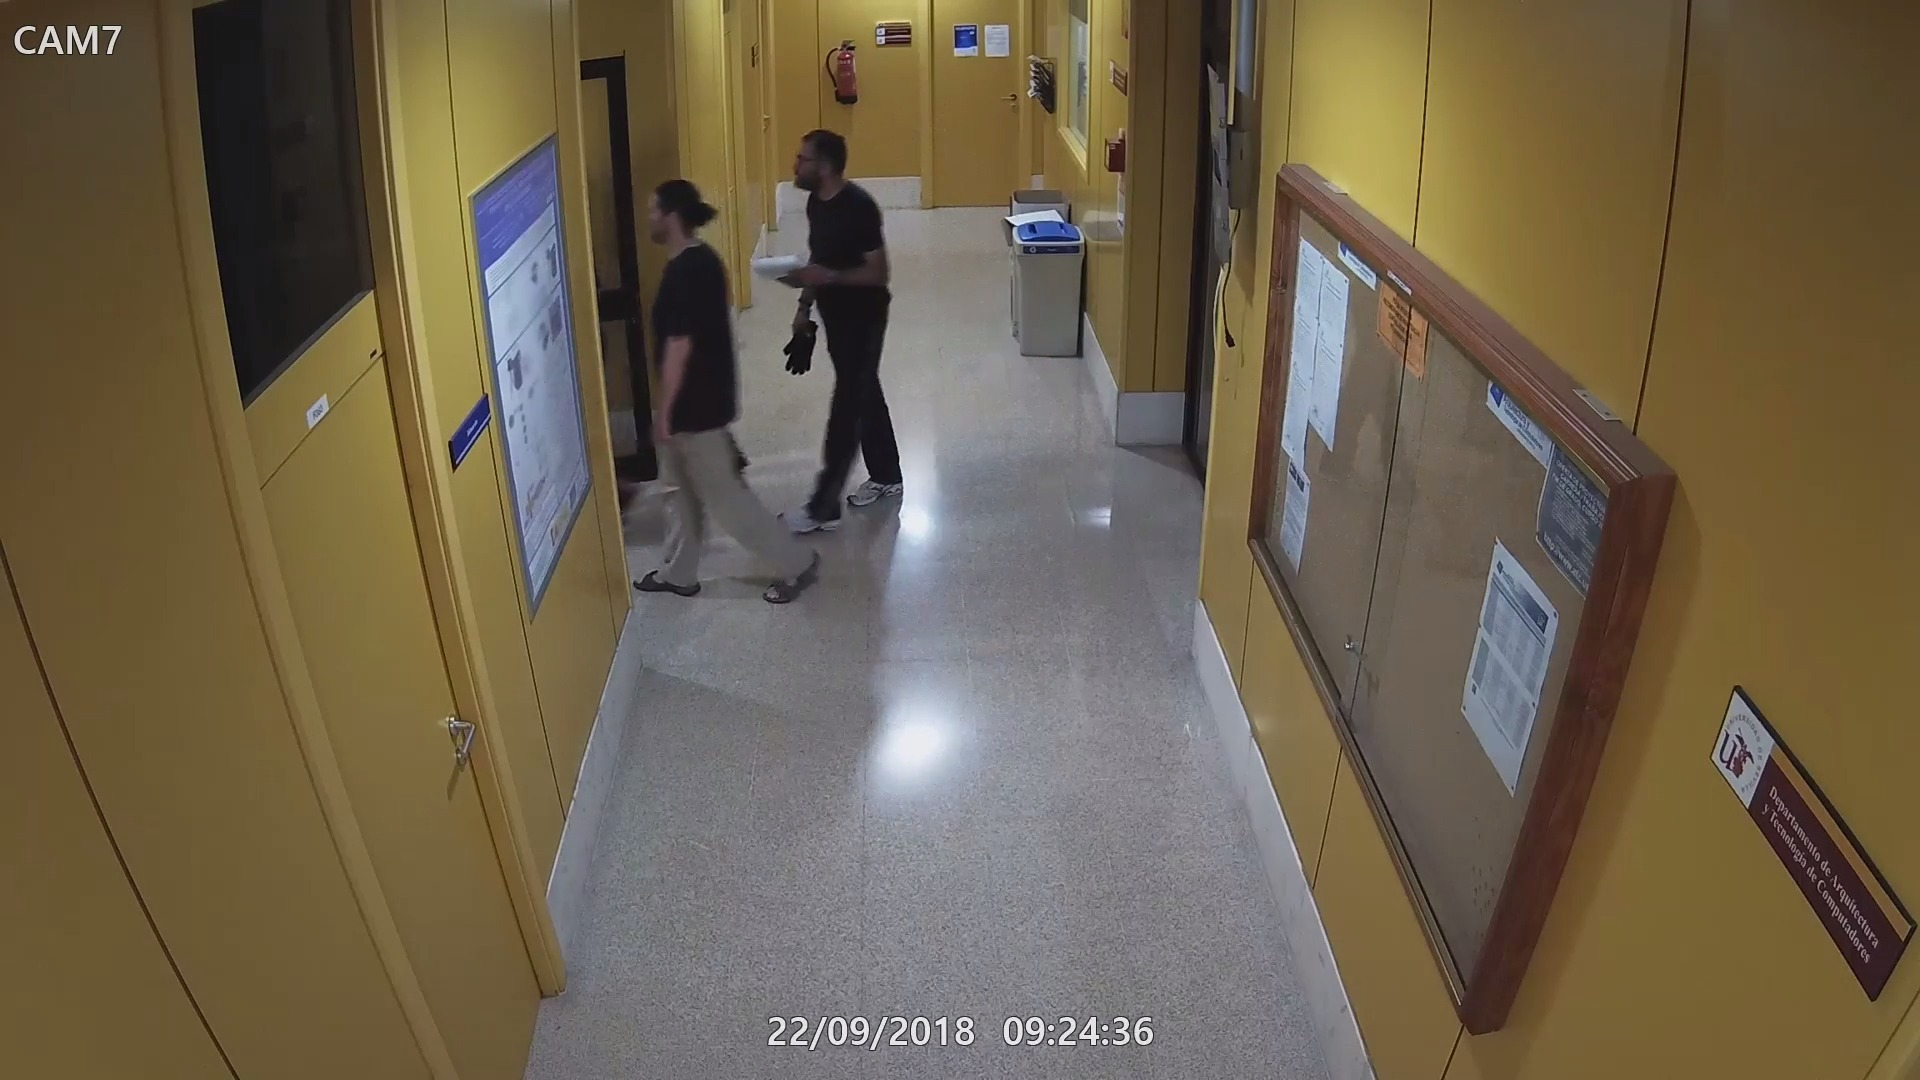Short_rifle: (720, 421, 764, 492)
